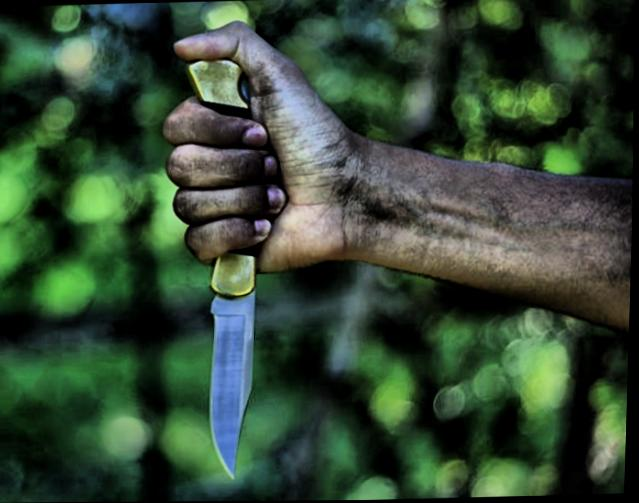knife: (149, 138, 298, 491)
